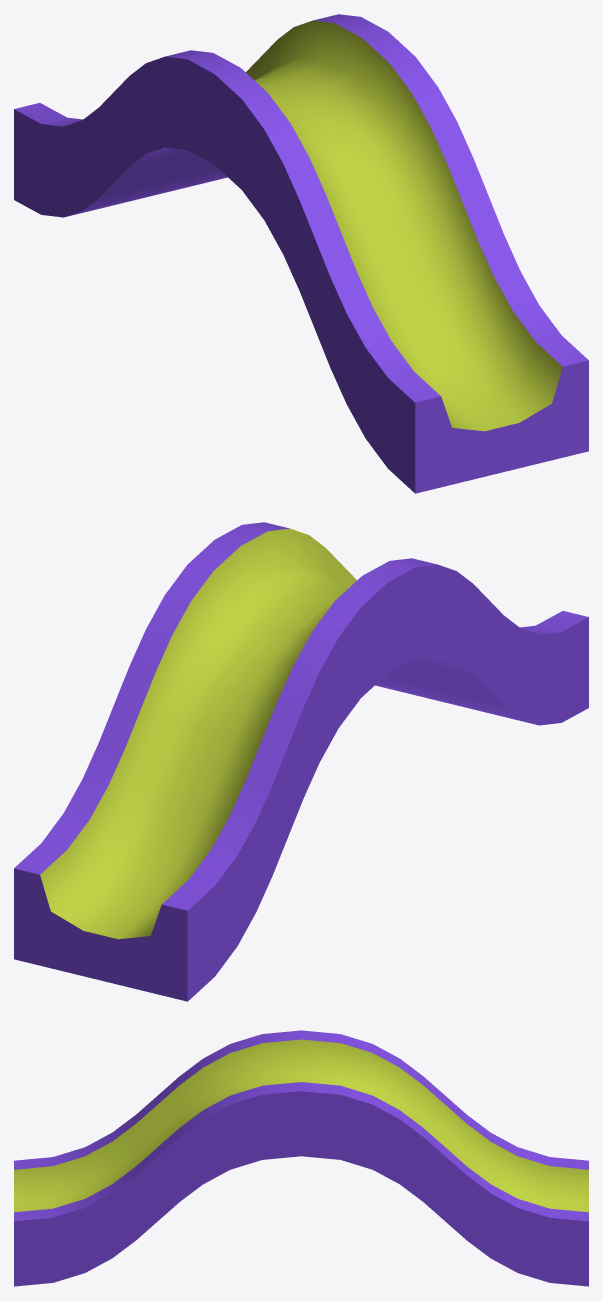
File: bump_C-col.dae
3 views of the same model, one above another, from view 1: azimuth 30°, elevation 25°; view 2: azimuth 150°, elevation 25°; view 3: azimuth 270°, elevation 25° (orthographic). The views are drawn at different scales.
Visible parts, largest first — view 1: bump_C-col; view 2: bump_C-col; view 3: bump_C-col.
Part boxes in pixels (x1,y1,x2,y2): bump_C-col: [14, 14, 588, 493]; bump_C-col: [14, 522, 588, 1001]; bump_C-col: [14, 1030, 588, 1286].
Bounding box in the file's own units: 1 × 4 × 1.5.
